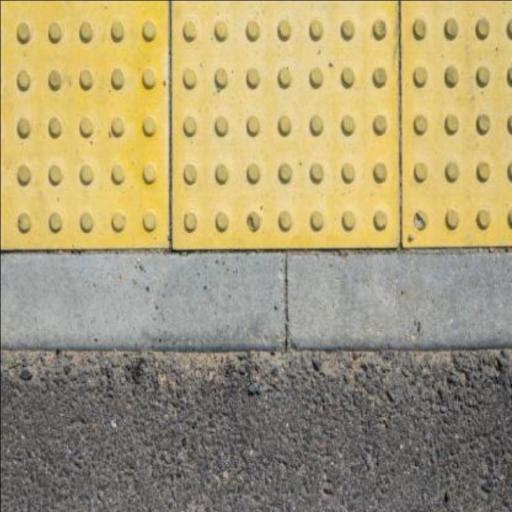dot: (172, 0, 401, 249), (0, 1, 173, 253), (402, 1, 511, 246)
